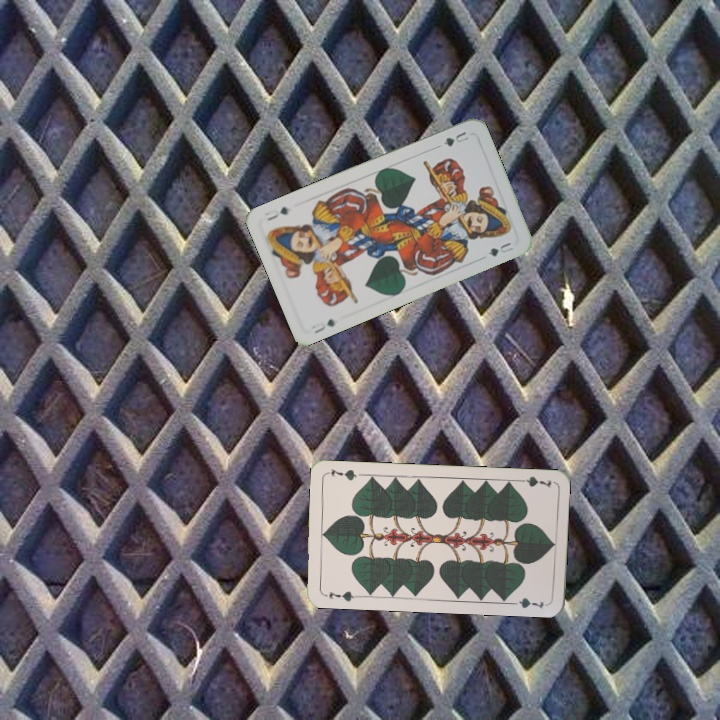G7: (513, 472, 554, 490), (320, 587, 361, 604)
GU: (434, 127, 471, 150), (310, 315, 339, 336)
